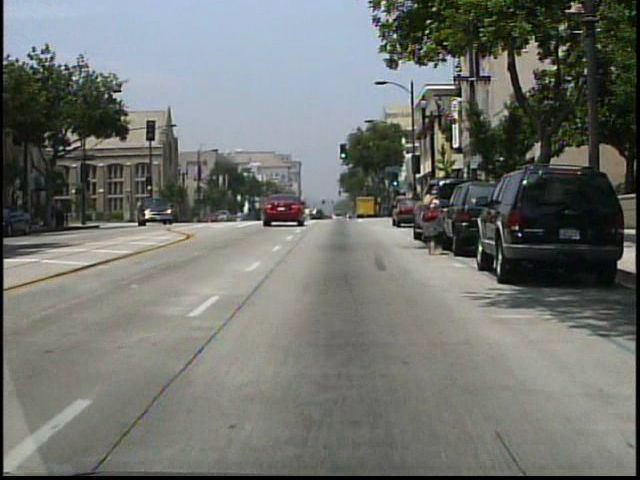person: (414, 182, 451, 257)
